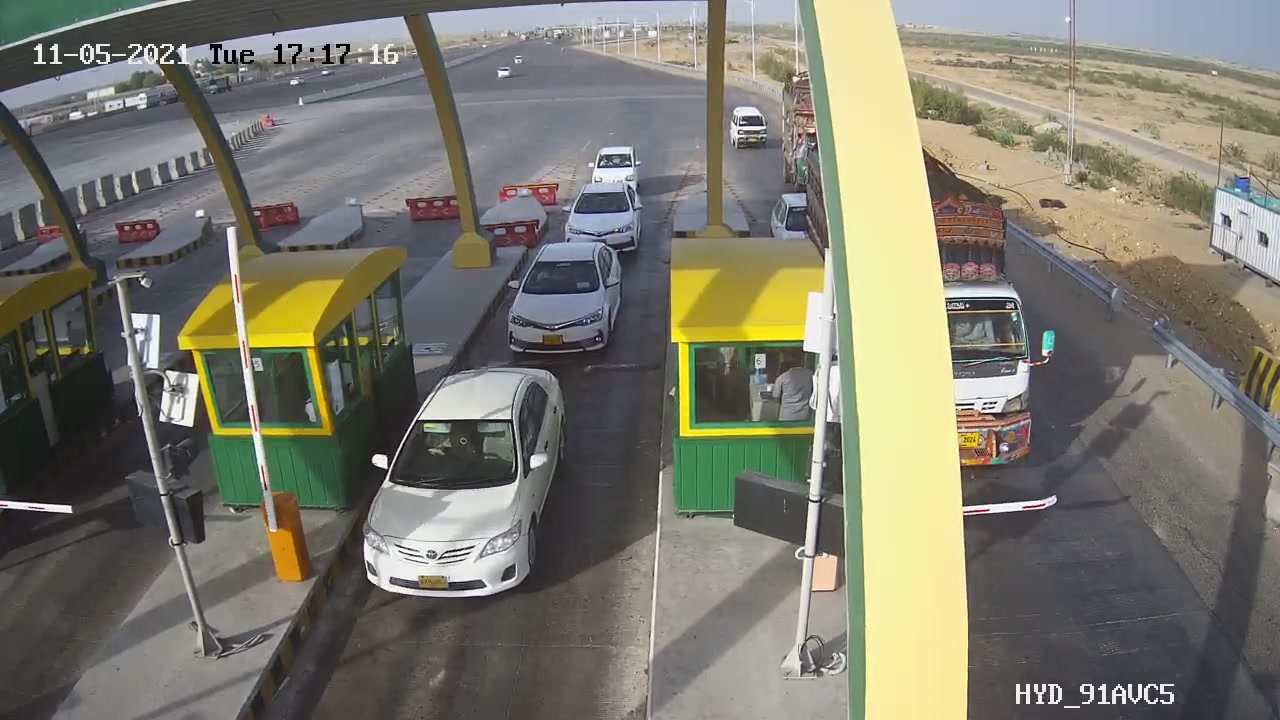F1: (344, 355, 582, 616), (485, 230, 642, 366), (551, 173, 653, 268)
